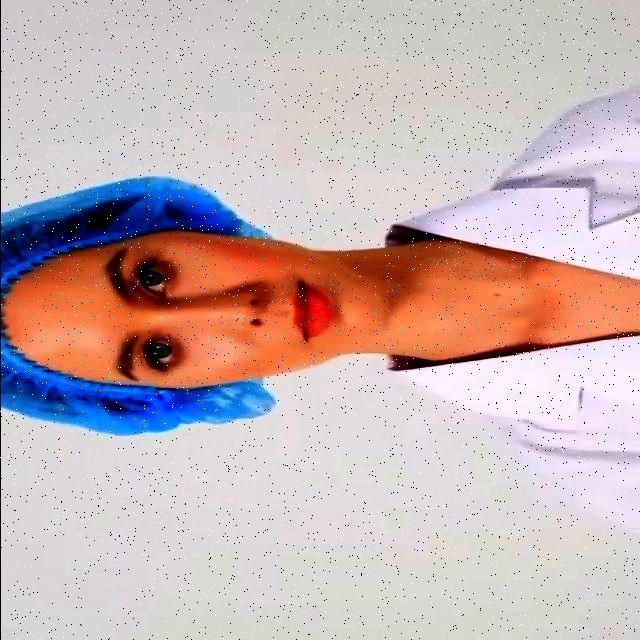gloves: (0, 162, 70, 420)
no_hairnet: (235, 253, 337, 389)
